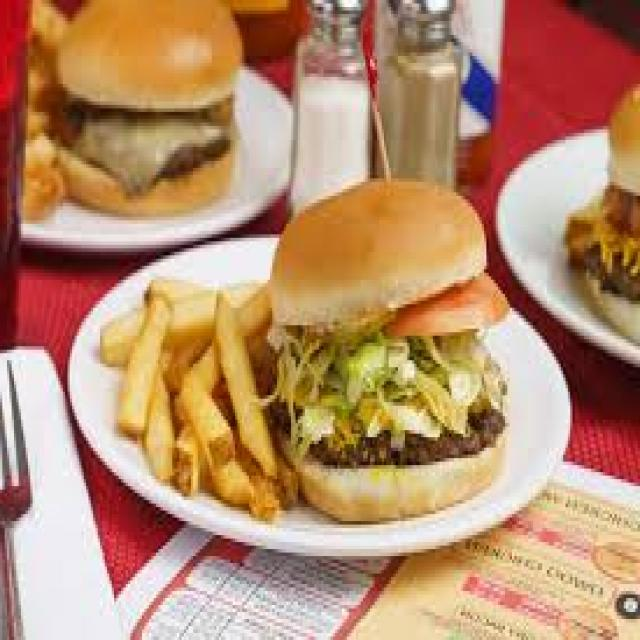Burger: (286, 161, 517, 514), (51, 0, 250, 223)
French Fries: (112, 273, 277, 514)
